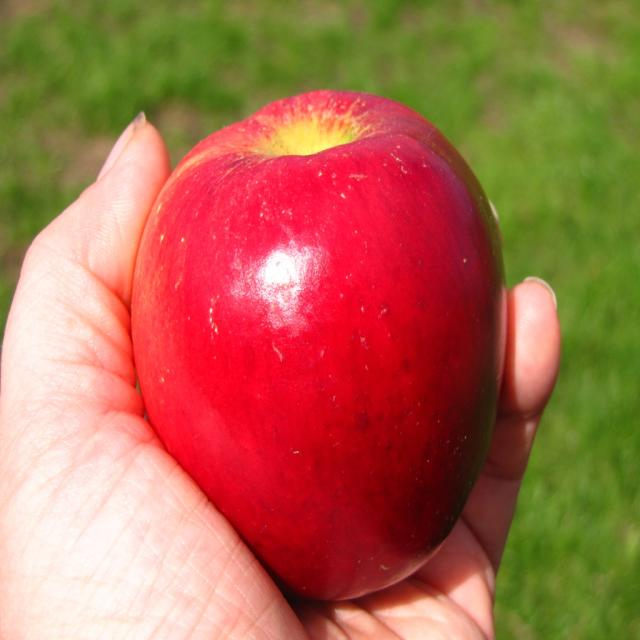Healty Apple: (137, 67, 516, 629)
